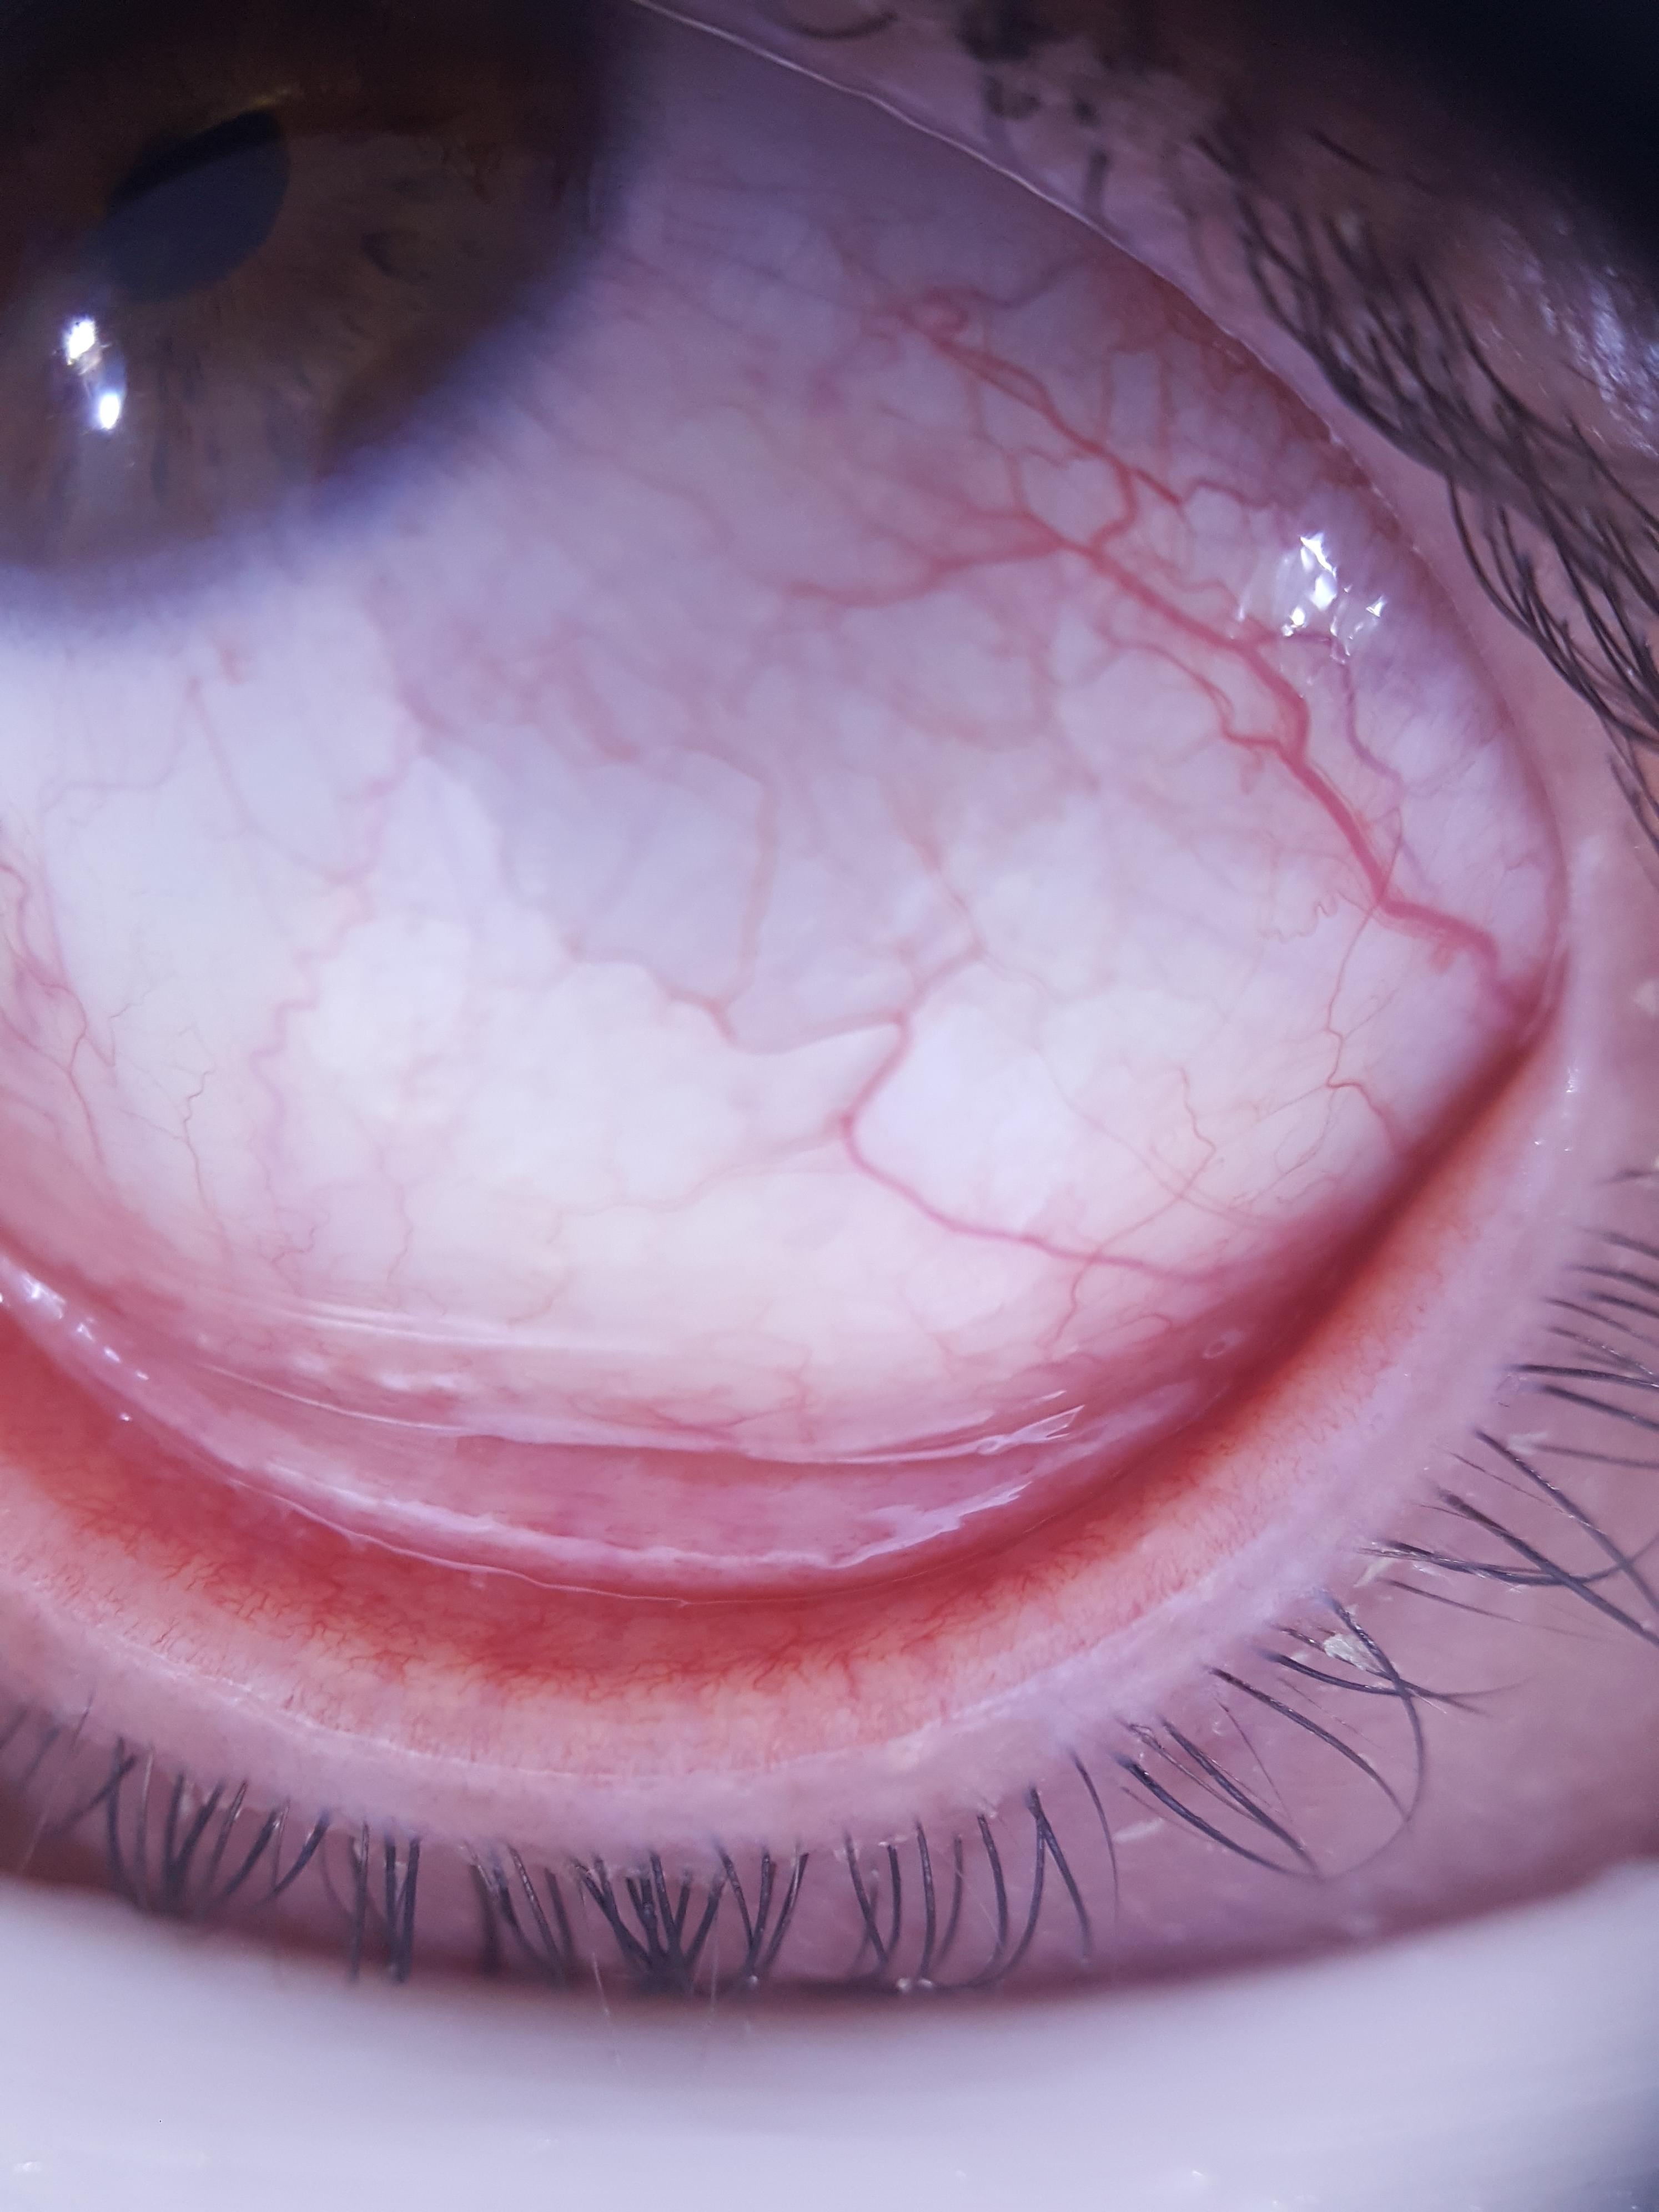forniceal: (0, 1231, 1239, 1583)
forniceal_palpebral: (0, 1031, 1518, 1716)
palpebral: (0, 1042, 1518, 1705)
